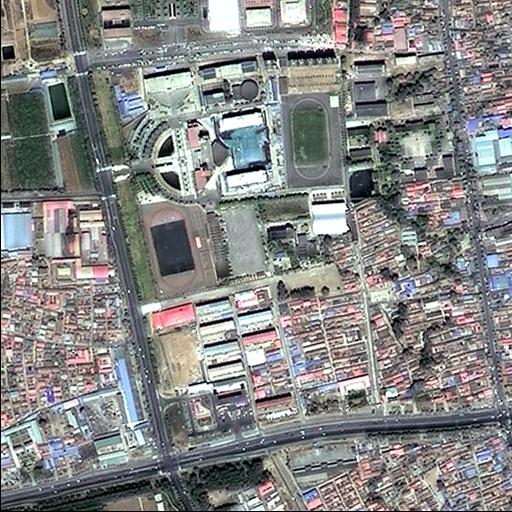school: (92, 53, 354, 304)
